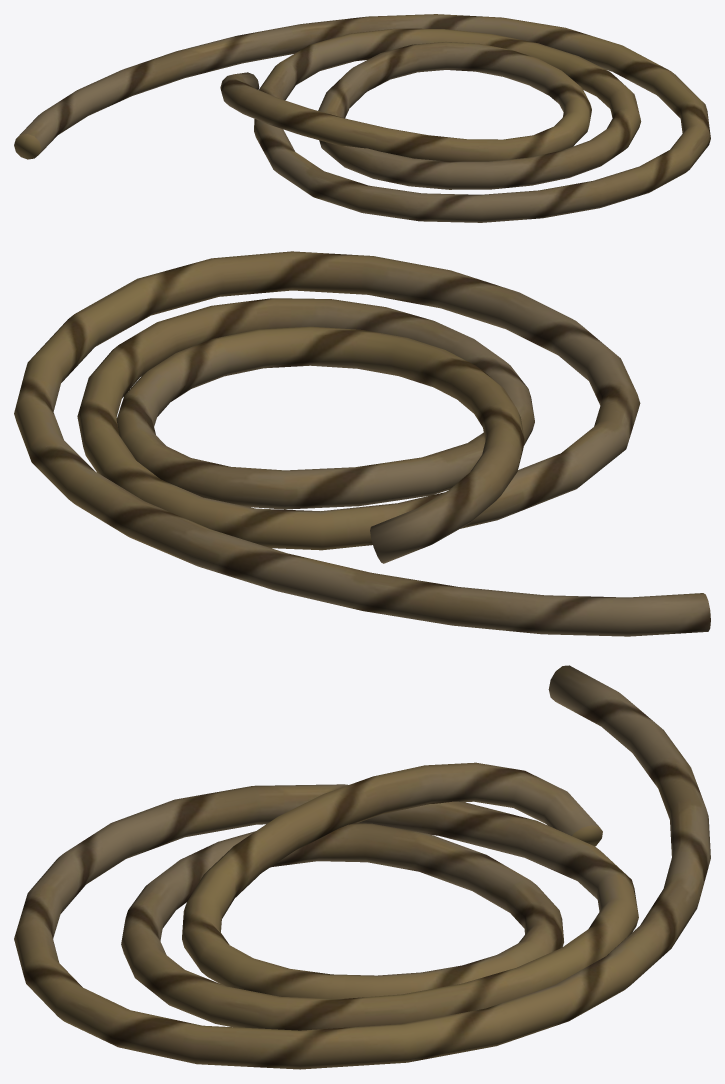
File: Rope_3.gltf
The picture shows the model from 3 angles, top to bottom: view 1: azimuth 30°, elevation 25°; view 2: azimuth 150°, elevation 25°; view 3: azimuth 270°, elevation 25°; orthographic projection. The views are drawn at different scales.
Visible parts, largest first — view 1: Rope_3; view 2: Rope_3; view 3: Rope_3.
Boxes of the visible parts, bbox=[...] form: Rope_3: bbox=[14, 14, 710, 222]; Rope_3: bbox=[14, 251, 710, 636]; Rope_3: bbox=[14, 665, 710, 1069].
Size of the model in its own units: 1.23 by 0.1018 by 0.9508.
1 material, 1 textured.
